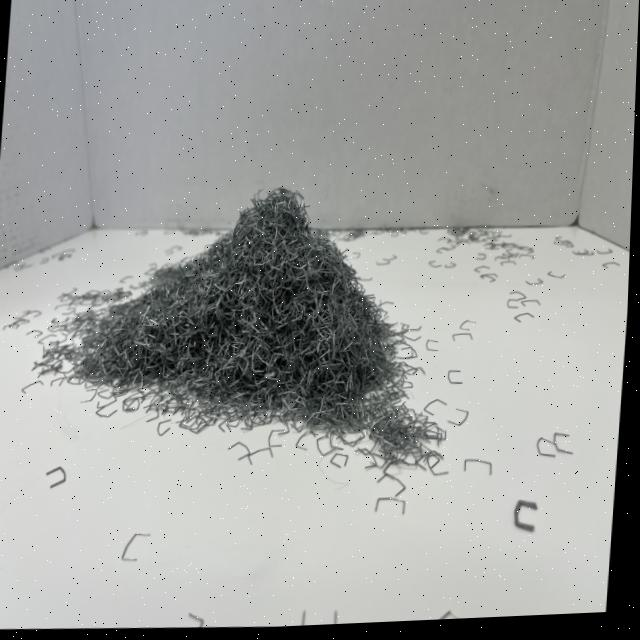staples: (68, 171, 416, 428)
